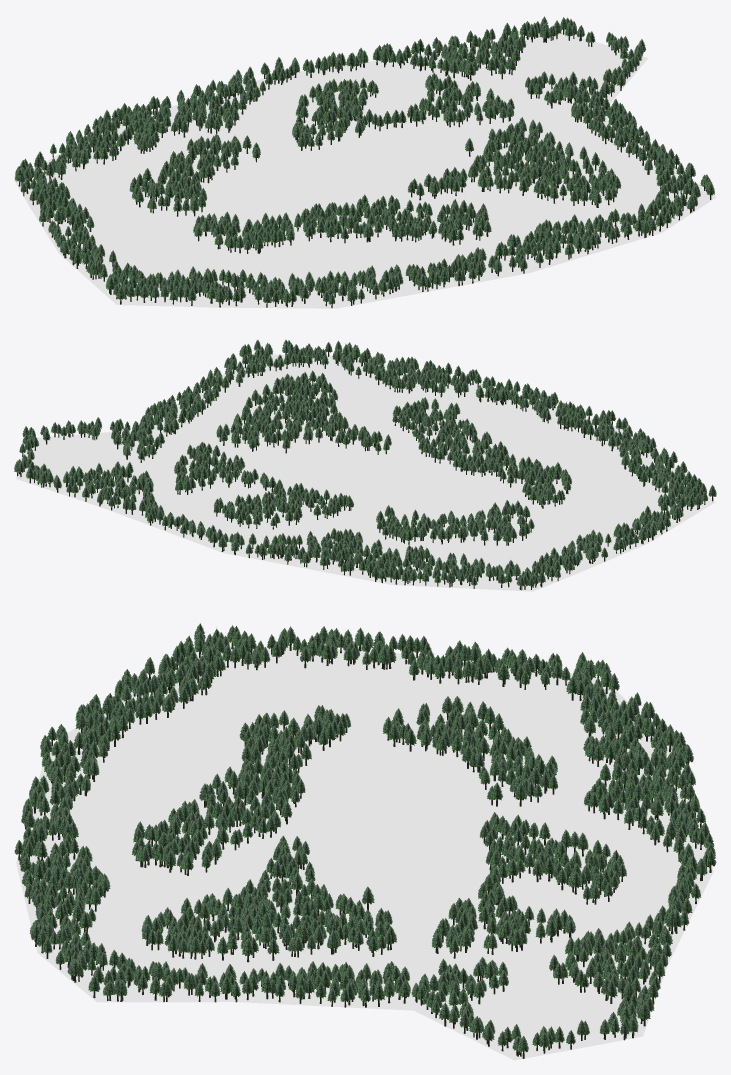
File: MapV1.glb
3 views of the same model, one above another, from view 1: azimuth 30°, elevation 25°; view 2: azimuth 150°, elevation 25°; view 3: azimuth 270°, elevation 25° (orthographic). The views are drawn at different scales.
Visible parts, largest first — view 1: Path, Grass; view 2: Path, Grass; view 3: Path, Grass.
Boxes of the visible parts, x1,y1,x2,y2 form: Path: [58, 41, 659, 288]; Grass: [14, 31, 716, 308]; Path: [32, 368, 660, 575]; Grass: [16, 354, 715, 591]; Path: [72, 668, 675, 1045]; Grass: [16, 646, 713, 1060].
Size of the model in its own units: 282 by 7.79 by 201.
Materials: 3 (1 with a texture image).
